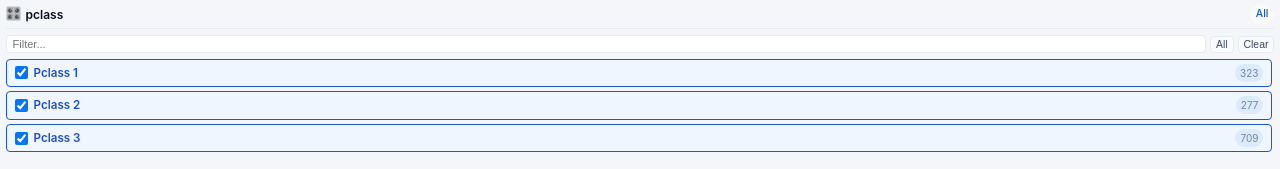
Test: SlicerVisual - Interactive Dimension Filtering & Parity Guardrails › selects all items when clicking 'All' button
// Clear first
Click the button with test id "slicer-clear". click: (1256, 44)
box: [1238, 36, 1274, 53]
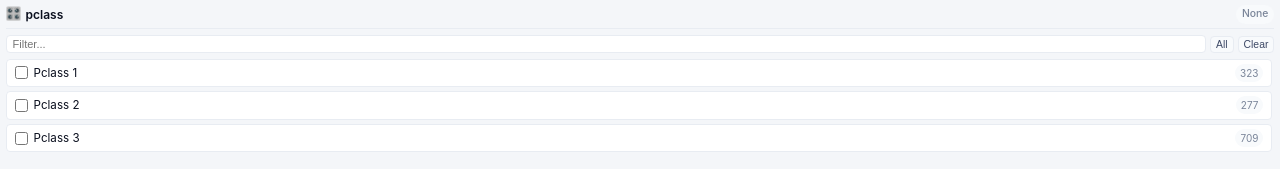
expect the text with test id "slicer-selection-summary" reads "None": met, box [1242, 7, 1268, 20]
// Select all
Click the button with test id "slicer-select-all". click: (1222, 44)
box: [1210, 36, 1234, 53]
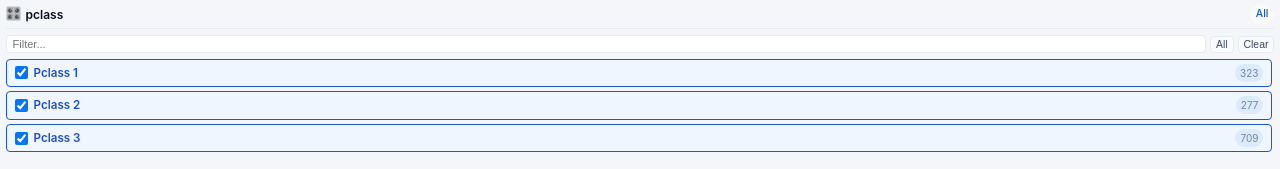
expect the text with test id "slicer-selection-summary" reads "All": met, box [1256, 7, 1268, 20]
